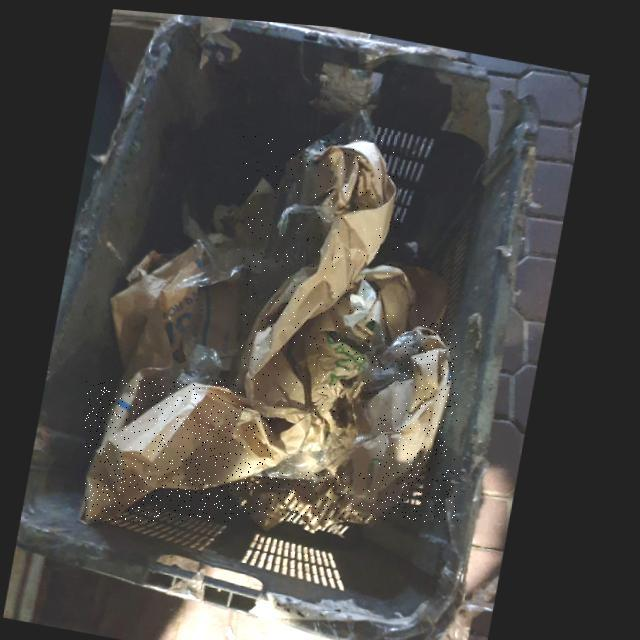paper: (242, 136, 399, 416), (263, 318, 458, 522), (86, 379, 285, 522), (273, 289, 377, 472), (363, 258, 423, 331)
